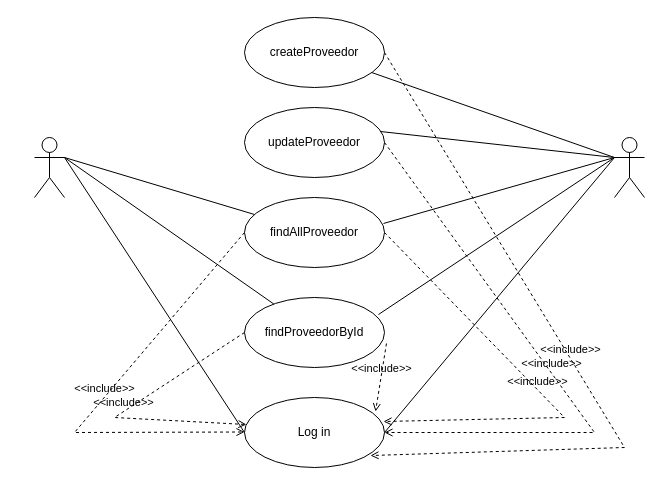
The diagram is 671 pixels wide and 485 high, and some of its shapes have lost their labels. The centre of each missing label's shape, as x and y in pixels:
"Employer" belongs at (x=49, y=167).
"Manager" belongs at (x=629, y=167).
